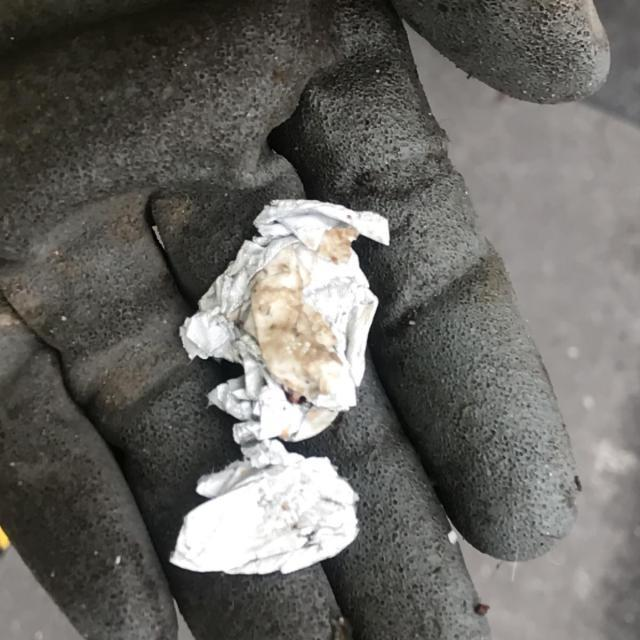Paper: (166, 194, 392, 578)
